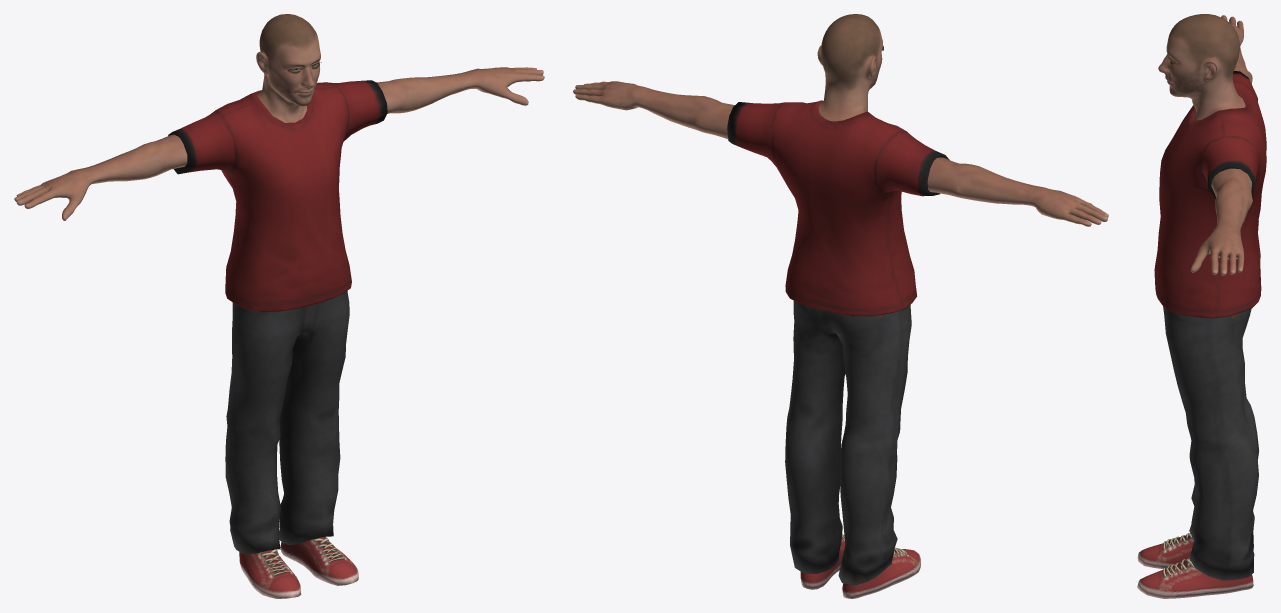
3 renders of one model, left to right at view 1: azimuth 30°, elevation 25°; view 2: azimuth 150°, elevation 25°; view 3: azimuth 270°, elevation 25°, orthographic.
Visible parts, largest first — view 1: Tops, Bottoms, Body, Shoes; view 2: Bottoms, Tops, Body, Shoes; view 3: Bottoms, Tops, Body, Shoes.
Boxes of the visible parts, x1,y1,x2,y2 form: Tops: [168, 80, 387, 311]; Bottoms: [225, 291, 349, 554]; Body: [14, 14, 544, 220]; Shoes: [239, 536, 358, 598]; Bottoms: [785, 301, 911, 585]; Tops: [727, 100, 949, 316]; Body: [573, 14, 1108, 226]; Shoes: [800, 534, 920, 598]; Bottoms: [1163, 306, 1258, 580]; Tops: [1154, 71, 1266, 318]; Body: [1158, 14, 1252, 275]; Shoes: [1137, 533, 1253, 598].
Size of the model in its own units: 177 by 178 by 37.32.
1 material, 1 textured.
